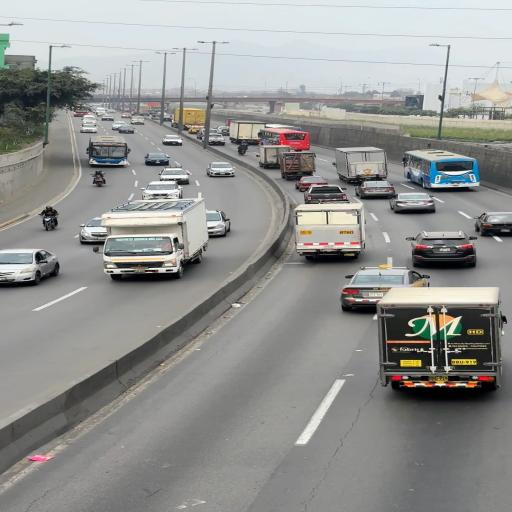auto: (336, 268, 423, 307), (407, 230, 477, 265), (0, 248, 60, 286), (388, 192, 436, 213), (473, 212, 511, 236), (78, 217, 110, 243), (354, 180, 396, 198), (303, 188, 348, 204), (205, 209, 230, 237), (144, 180, 184, 197), (157, 166, 190, 183), (294, 176, 328, 192), (206, 162, 236, 178), (144, 153, 170, 165), (204, 133, 226, 145), (162, 135, 184, 146), (198, 128, 218, 140), (80, 124, 97, 133), (216, 126, 230, 135), (82, 117, 96, 125), (101, 114, 115, 121), (131, 116, 144, 122), (72, 111, 83, 117), (111, 124, 122, 130)
bus: (376, 290, 507, 390), (94, 197, 210, 277), (292, 201, 366, 258), (333, 146, 387, 181), (256, 144, 297, 172), (278, 152, 318, 180), (228, 120, 270, 145), (172, 107, 206, 128), (136, 104, 150, 115)
camion: (38, 206, 59, 229), (89, 169, 107, 185), (237, 144, 247, 155)
moto: (404, 149, 482, 190), (85, 135, 130, 167), (258, 126, 307, 150), (264, 124, 300, 131), (72, 105, 92, 117)
